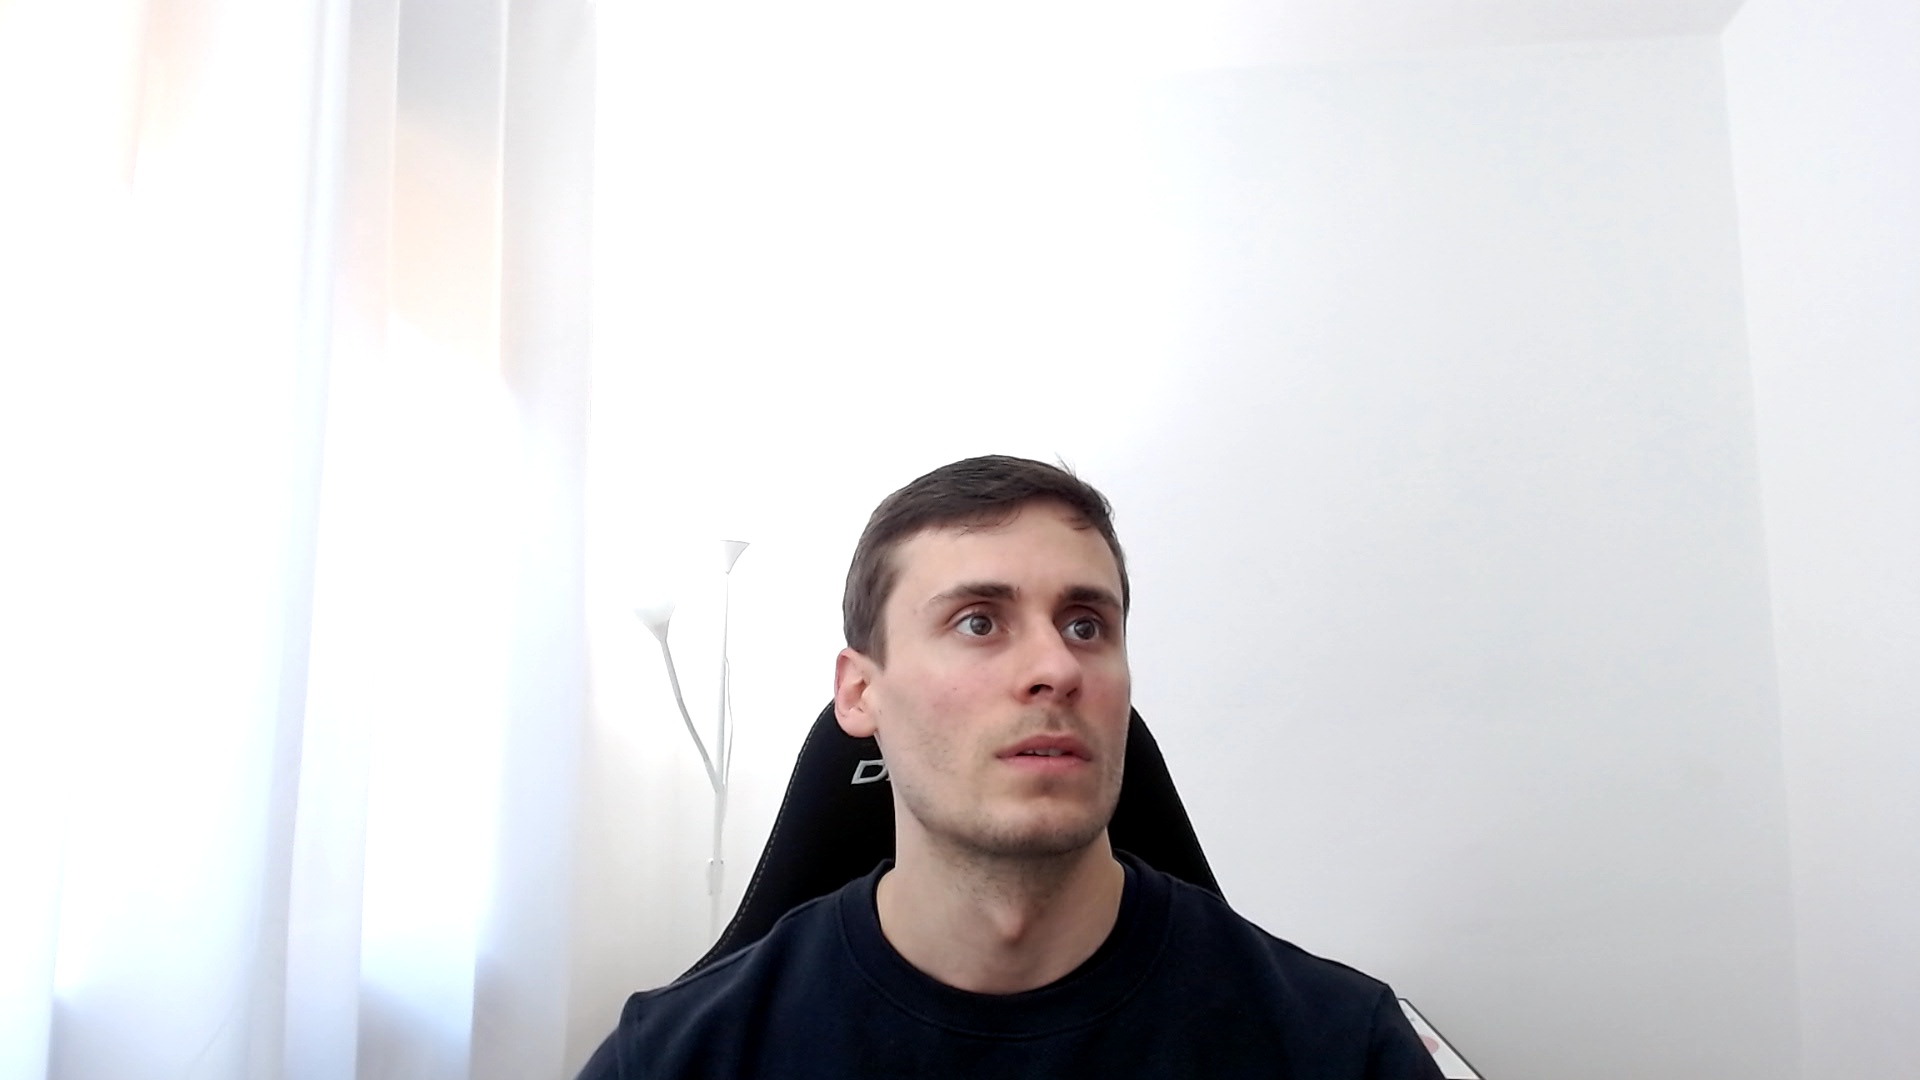No-mask: (836, 456, 1132, 860)
